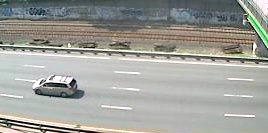car: (30, 73, 81, 99)
